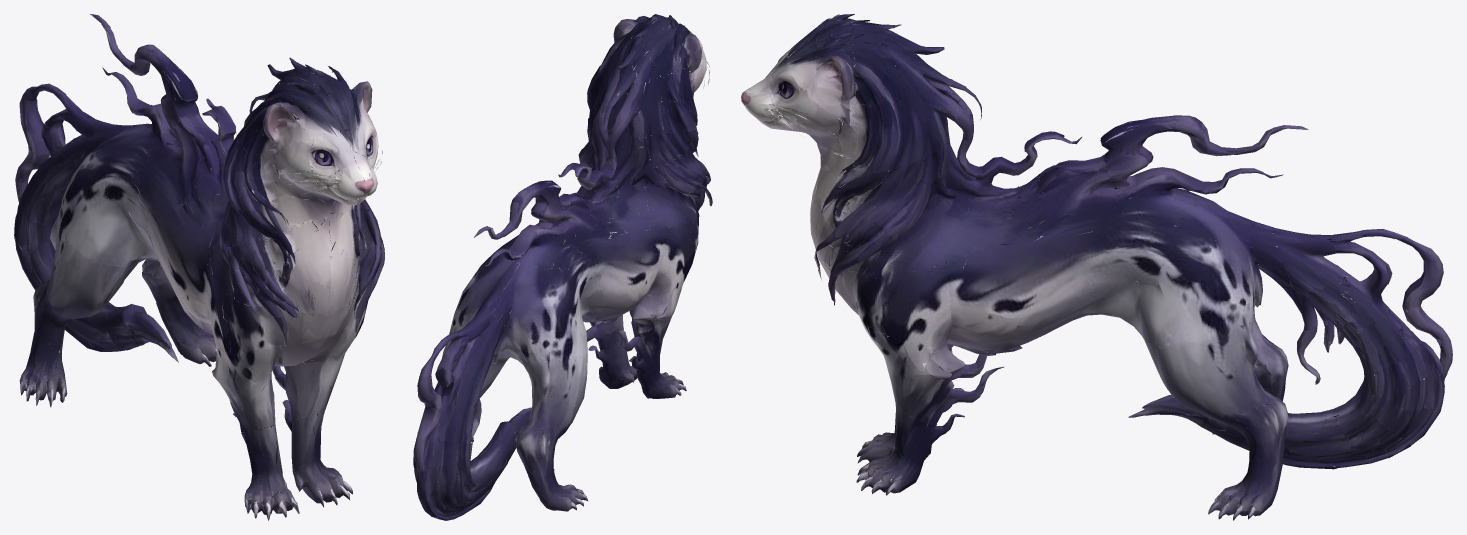
The picture shows the model from 3 angles, left to right: view 1: azimuth 30°, elevation 25°; view 2: azimuth 150°, elevation 25°; view 3: azimuth 270°, elevation 25°; orthographic projection. The views are drawn at different scales.
Visible parts, largest first — view 1: Mesh_0; view 2: Mesh_0; view 3: Mesh_0.
Part boxes in pixels (x1,y1,x2,y2): Mesh_0: (14,14,384,520); Mesh_0: (413,14,712,520); Mesh_0: (741,14,1452,520).
Bounding box in the file's own units: 0.6259 × 1.33 × 1.9.
1 material, 1 textured.
